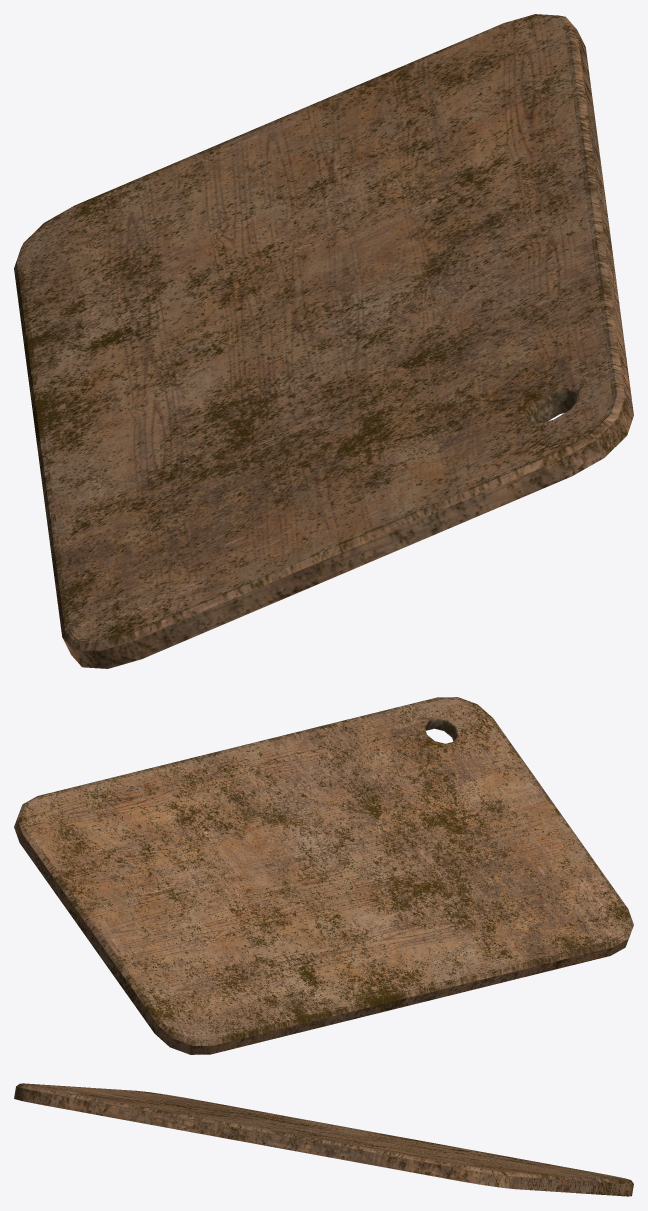
File: wooden_cutting_board.glb
The picture shows the model from 3 angles, top to bottom: view 1: azimuth 30°, elevation 25°; view 2: azimuth 150°, elevation 25°; view 3: azimuth 270°, elevation 25°; orthographic projection. The views are drawn at different scales.
Visible parts, largest first — view 1: Cutting board_low; view 2: Cutting board_low; view 3: Cutting board_low.
Boxes of the visible parts, x1=… form: Cutting board_low: x1=14, y1=14, x2=633, y2=668; Cutting board_low: x1=14, y1=697, x2=633, y2=1054; Cutting board_low: x1=14, y1=1083, x2=633, y2=1196.
Size of the model in its own units: 290 by 96.8 by 350.
Materials: 1 (1 with a texture image).
